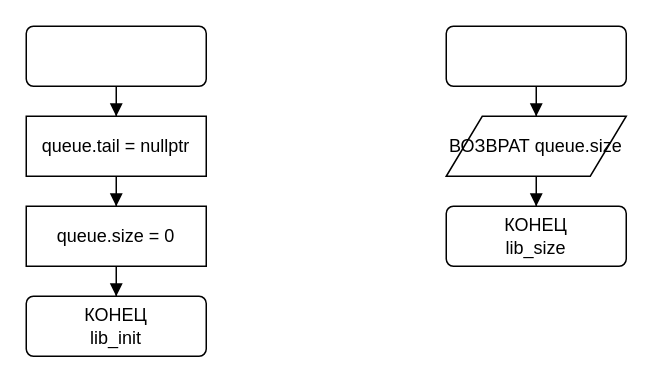
This 653x383 diagram has some shape labels left out. Each missing label, with the centre of its shape:
"lib_init НАЧАЛО" belongs at point 115,55.
"lib_size НАЧАЛО" belongs at point 535,55.
